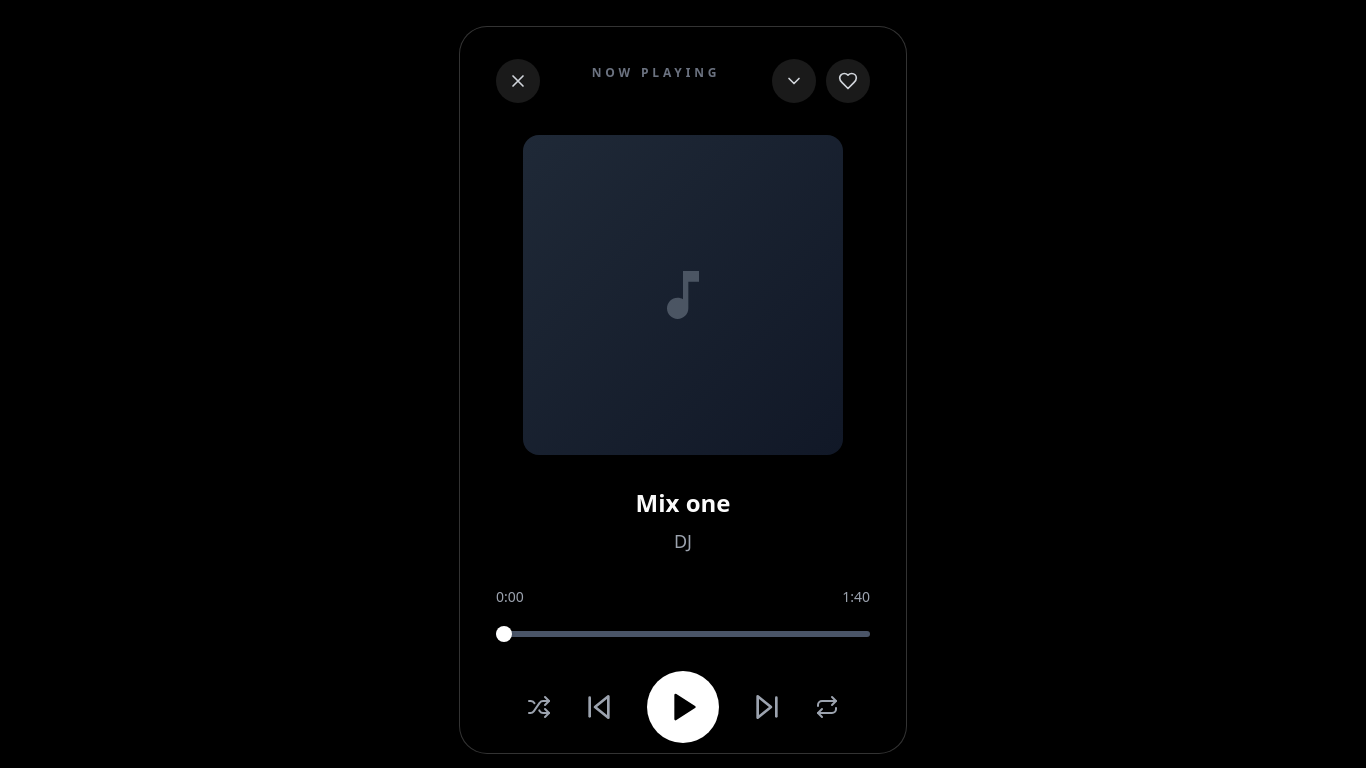
Test case: toggles between the expanded player and floating dock on double-click while leaving its controls alone
Double-click the button named "Play".
double_click(683, 707)  # box [647,671,719,743]
Double-click the heading "Mix one".
double_click(683, 502)  # box [636,486,730,519]
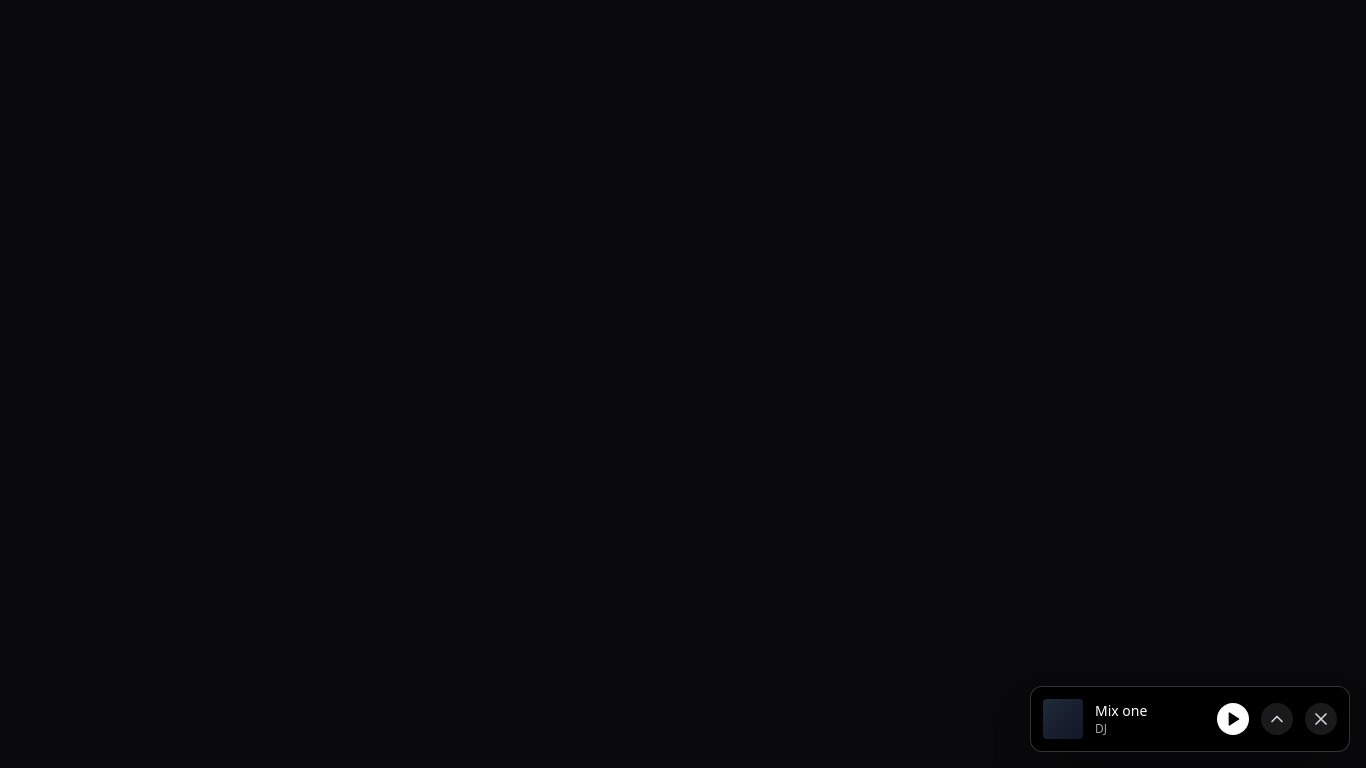
Expected: the element named "Minimized desktop player" is shown, [1030,686,1350,752]
Double-click the button named "Play".
double_click(1233, 719)  # box [1217,703,1249,735]
Expected: the text "Now Playing" is not shown
Double-click the text "Mix one".
double_click(1121, 710)  # box [1095,701,1147,720]
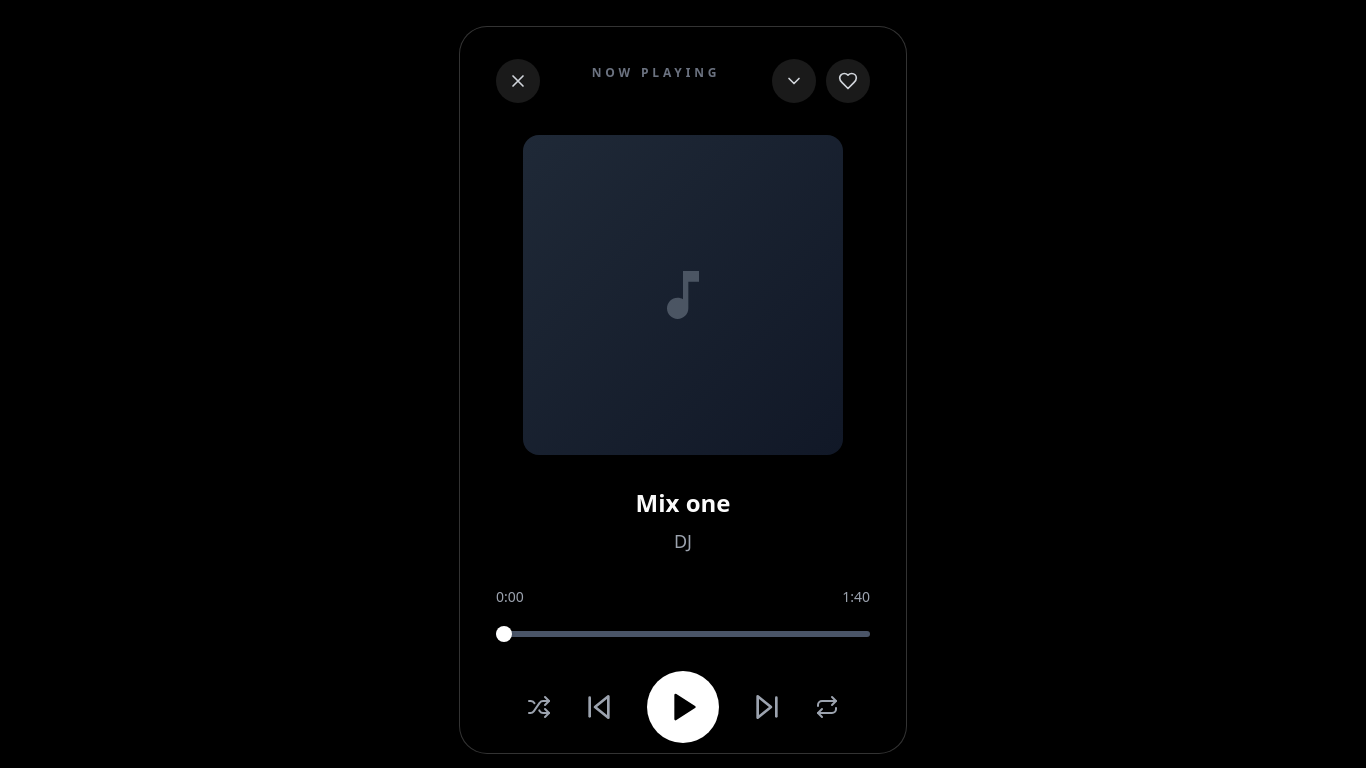
Expected: the dialog "Now Playing" is shown
